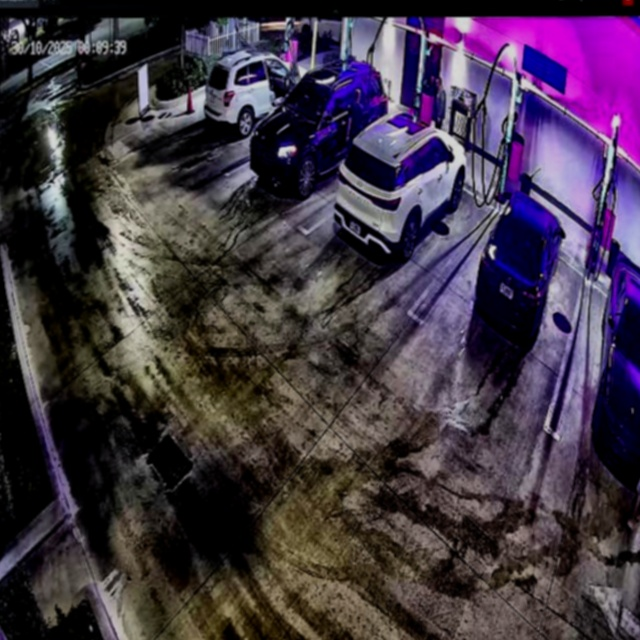Car: (338, 107, 465, 263), (249, 63, 383, 188), (476, 188, 564, 347)
